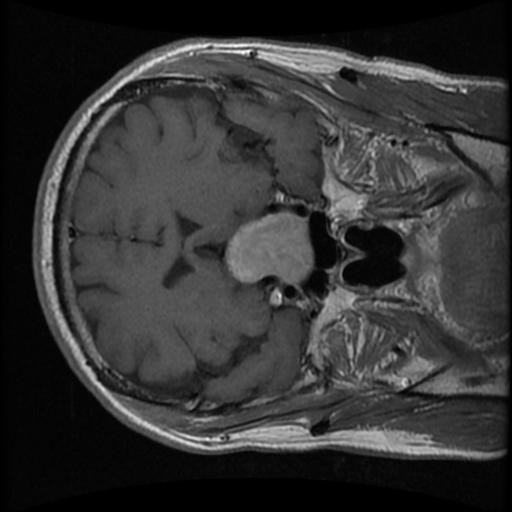pituitary tumour: (223, 211, 314, 286)
